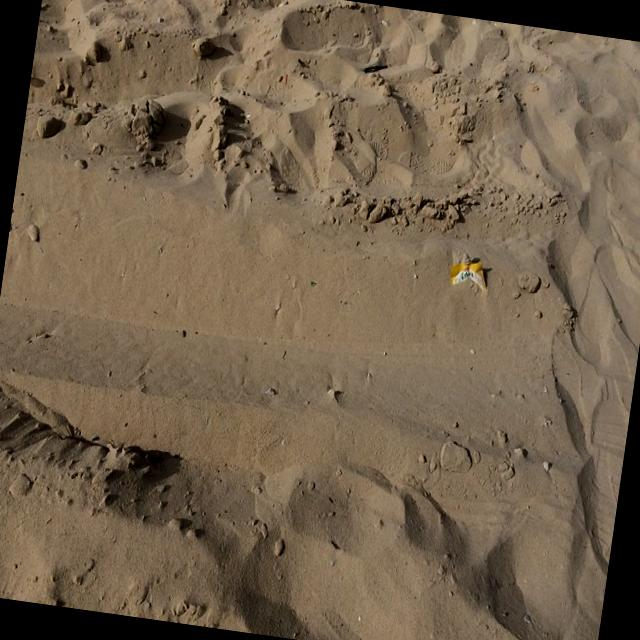Trash: (448, 263, 491, 296)
